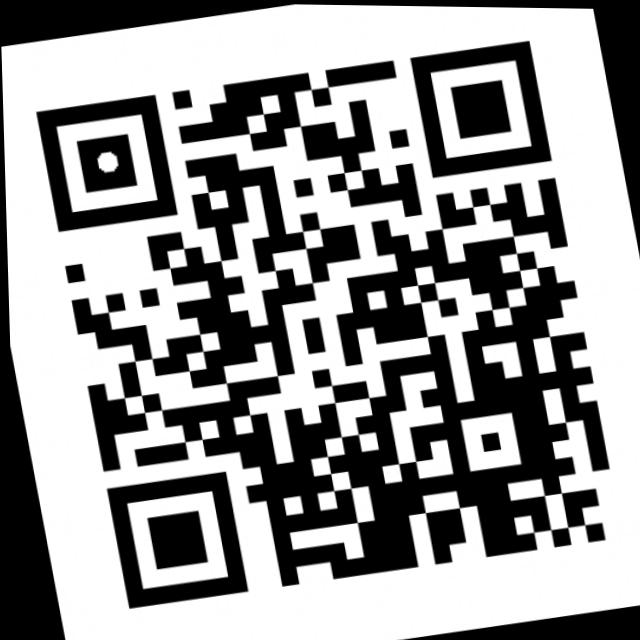QR_CODE: (17, 17, 640, 631)
